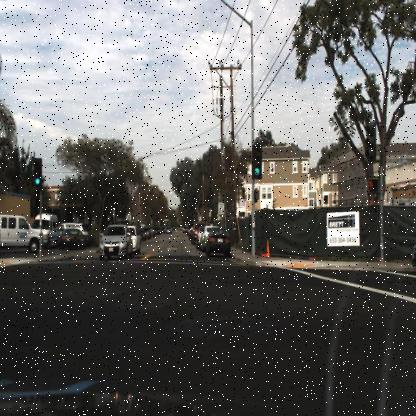car: (0, 215, 45, 251), (98, 224, 134, 260), (32, 210, 62, 246), (204, 226, 231, 257), (58, 228, 87, 248), (127, 223, 141, 253), (200, 225, 212, 252), (194, 228, 203, 251)
trafficLight: (251, 142, 263, 180), (32, 156, 42, 187)
trafficLight-Red: (367, 176, 380, 199)
truck: (0, 209, 41, 254), (32, 211, 61, 247), (62, 219, 88, 235)
